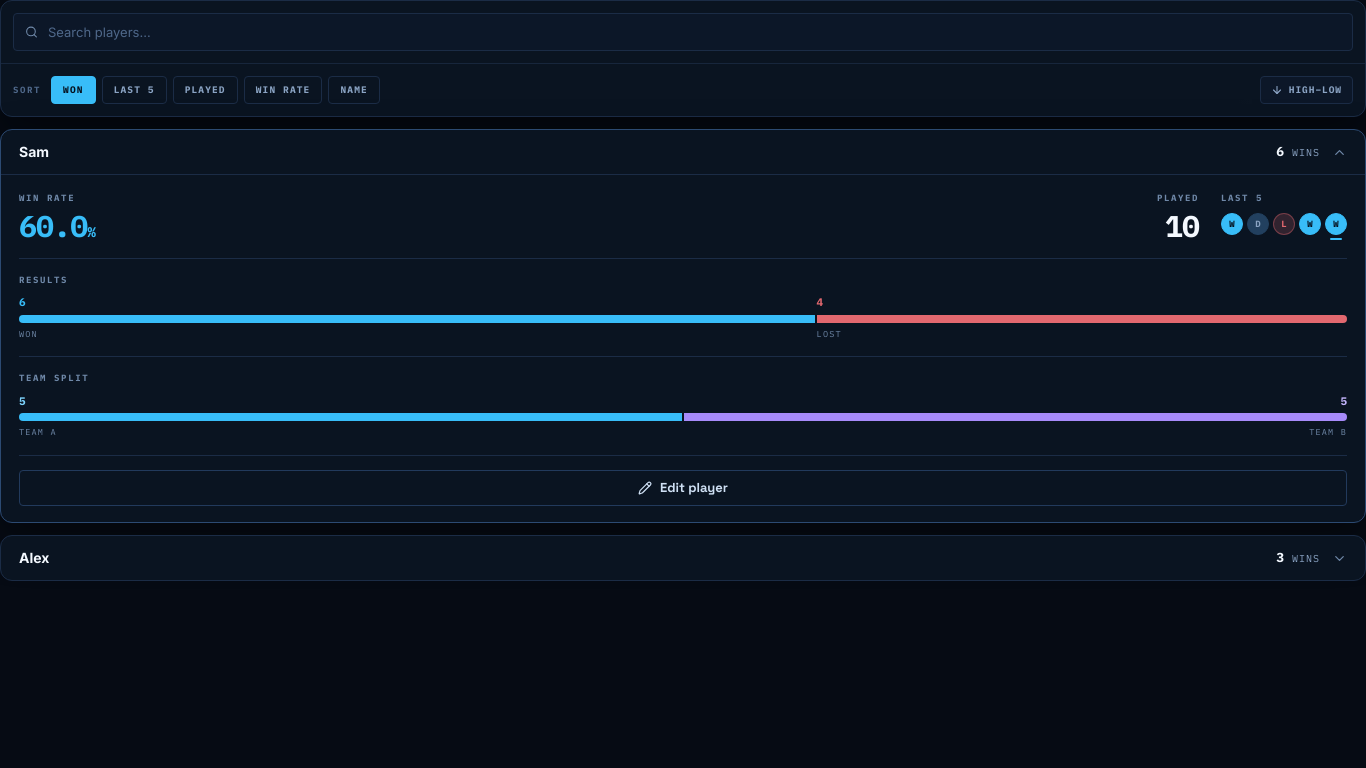
it: PublicPlayerList editing › reloads the roster when the player is missing from the cached copy
The width and height of the screenshot is (1366, 768).
Click the button "Edit player" at (683, 488), box [19,470,1347,506]
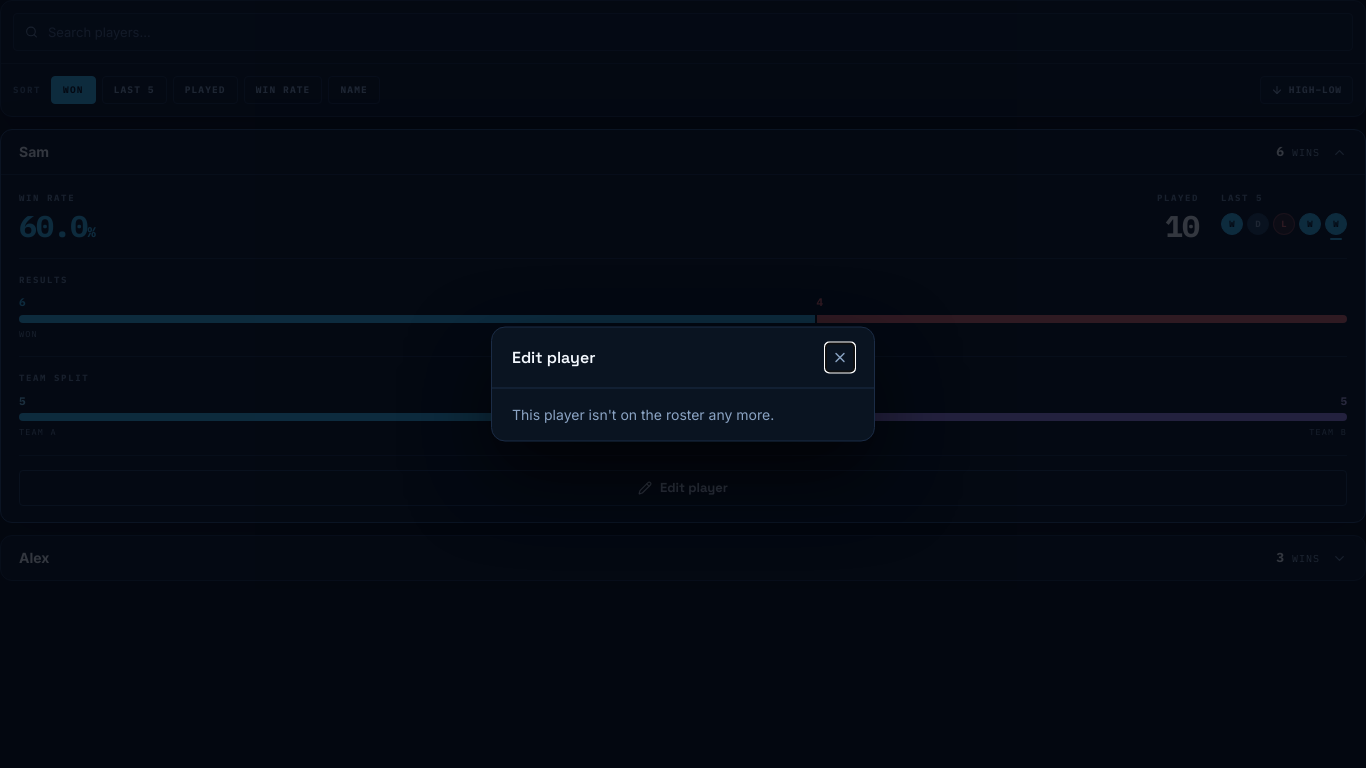
Result: the text "This player isn't on the roster any more." is shown at [512,406,774,422]
Click the button named "Close" at (840, 358), box [826,344,854,372]
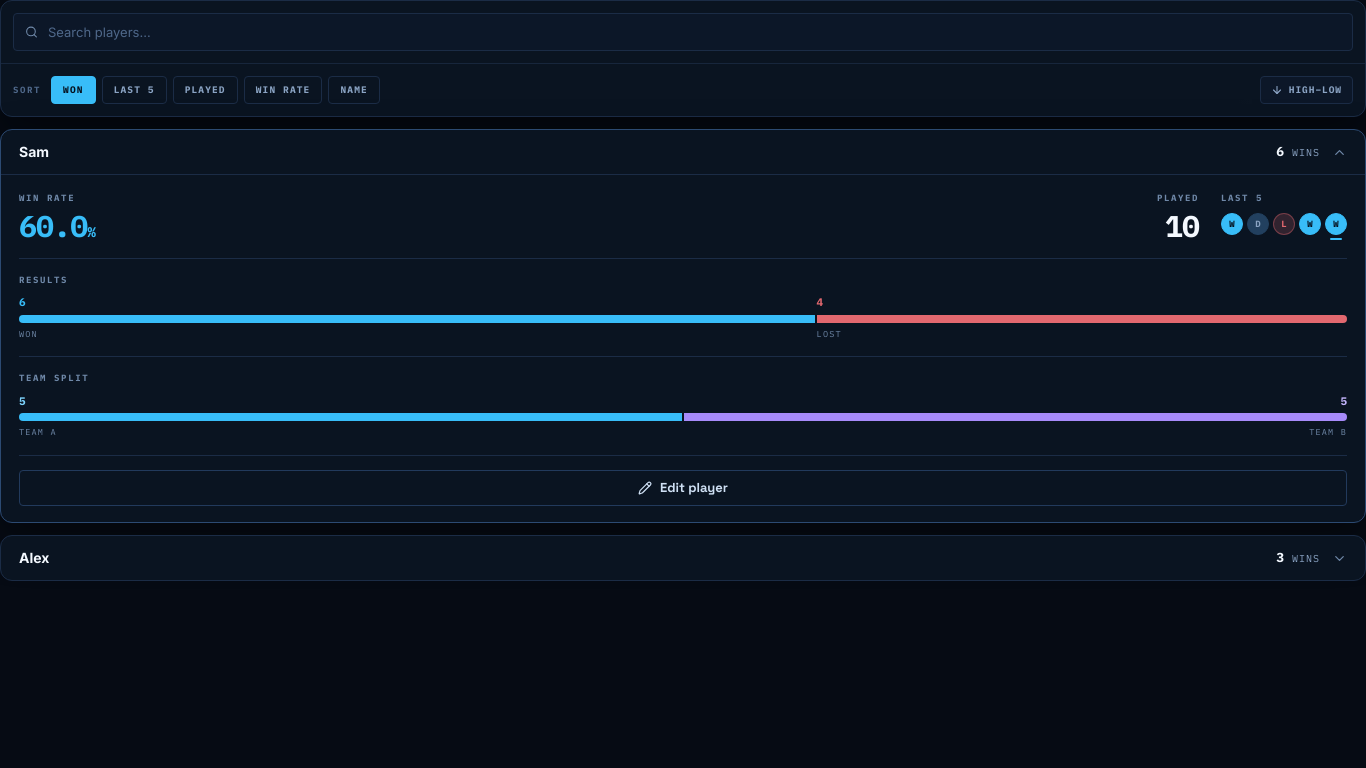
Result: the dialog is gone
Click the button "Edit player" at (683, 488), box [19,470,1347,506]
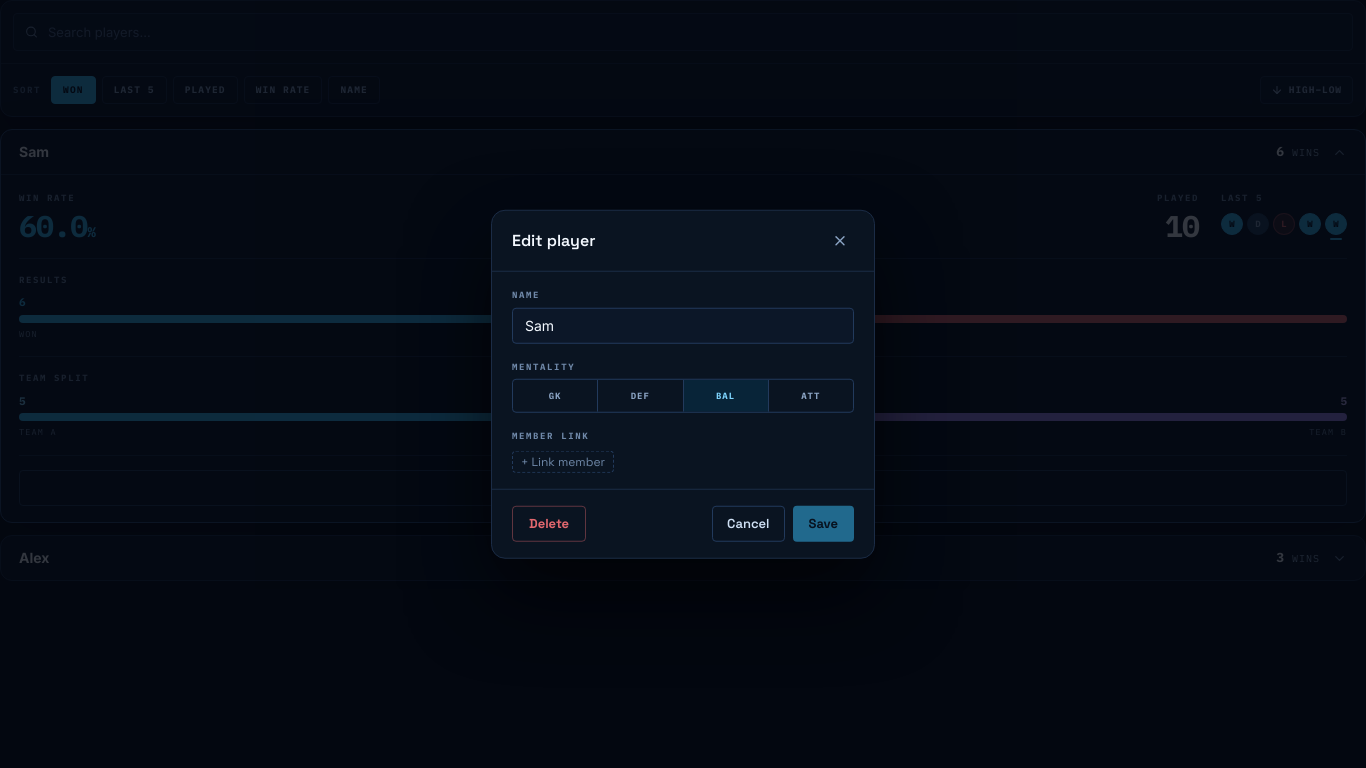
Result: the field labelled "Name" holds "Sam" at [512,307,854,343]
